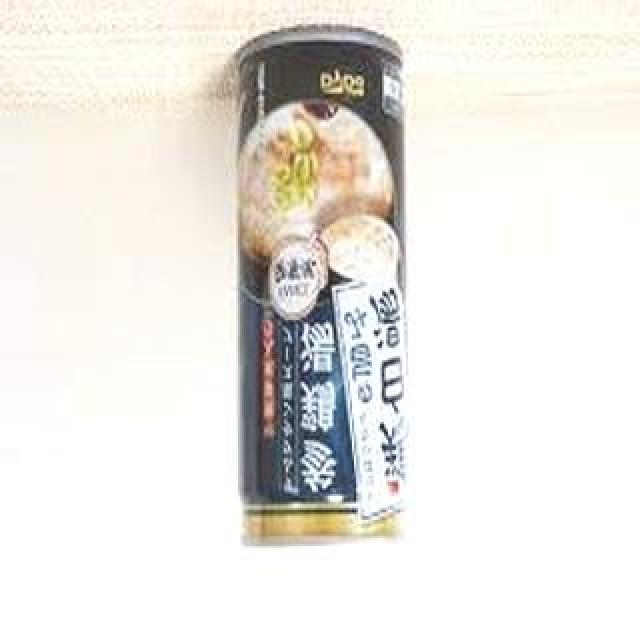Can: (222, 14, 438, 560)
